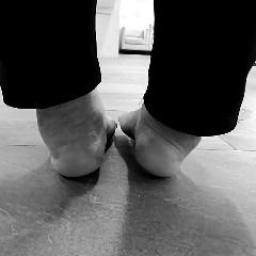Back View -Both Feet-: (21, 56, 226, 205)
